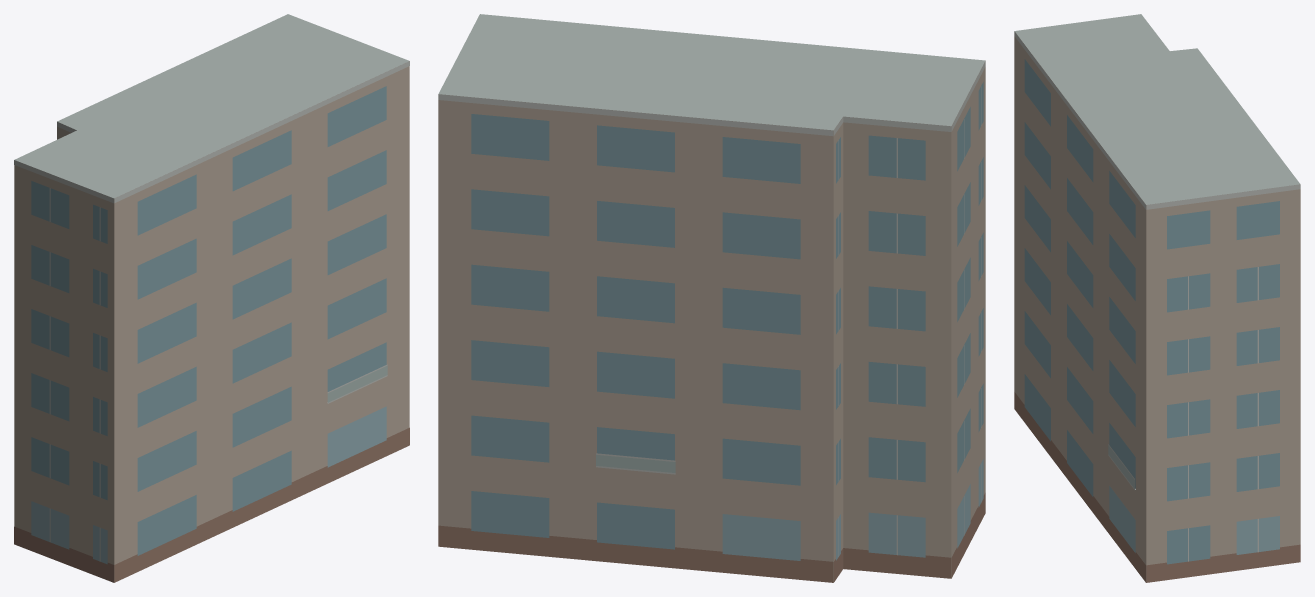
Rendered from survey-upis-32537358.glb.
3 renders of one model, left to right at view 1: azimuth 30°, elevation 25°; view 2: azimuth 150°, elevation 25°; view 3: azimuth 270°, elevation 25°, orthographic. The views are drawn at different scales.
Visible parts, largest first — view 1: survey-upis-32537358.tmp; view 2: survey-upis-32537358.tmp; view 3: survey-upis-32537358.tmp.
Boxes of the visible parts, left/top/right/bottom form: survey-upis-32537358.tmp: left=14, top=14, right=409, bottom=582; survey-upis-32537358.tmp: left=438, top=14, right=985, bottom=582; survey-upis-32537358.tmp: left=1014, top=14, right=1300, bottom=582.
Size of the model in its own units: 20.39 by 18.8 by 12.91.
